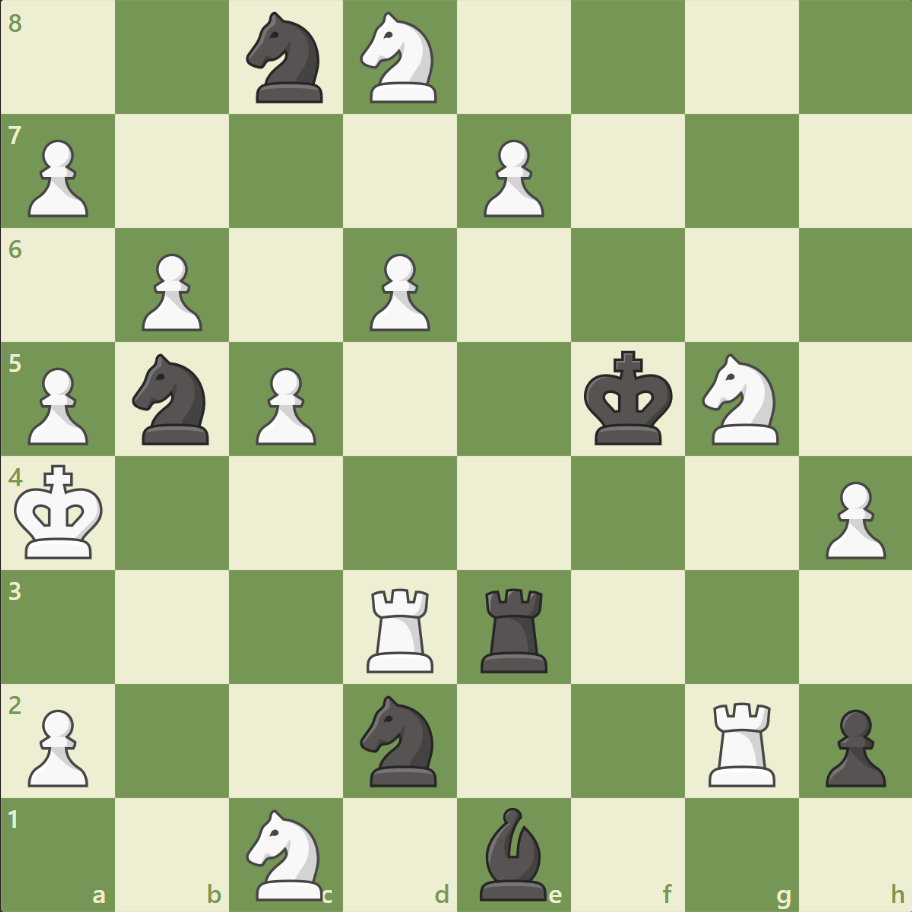K: (11, 458, 111, 566)
N: (351, 7, 449, 110), (692, 348, 789, 450), (238, 802, 335, 904)
P: (20, 132, 95, 223), (474, 132, 549, 223), (133, 246, 208, 337), (20, 359, 95, 450), (247, 359, 322, 450), (20, 700, 95, 791), (361, 246, 435, 337), (815, 473, 889, 564)
R: (700, 693, 783, 790), (360, 579, 442, 676)
b: (471, 801, 555, 904)
k: (579, 344, 679, 452)
n: (351, 688, 449, 791), (124, 348, 222, 450), (238, 7, 335, 110)
p: (815, 700, 889, 791)
r: (473, 579, 556, 676)
